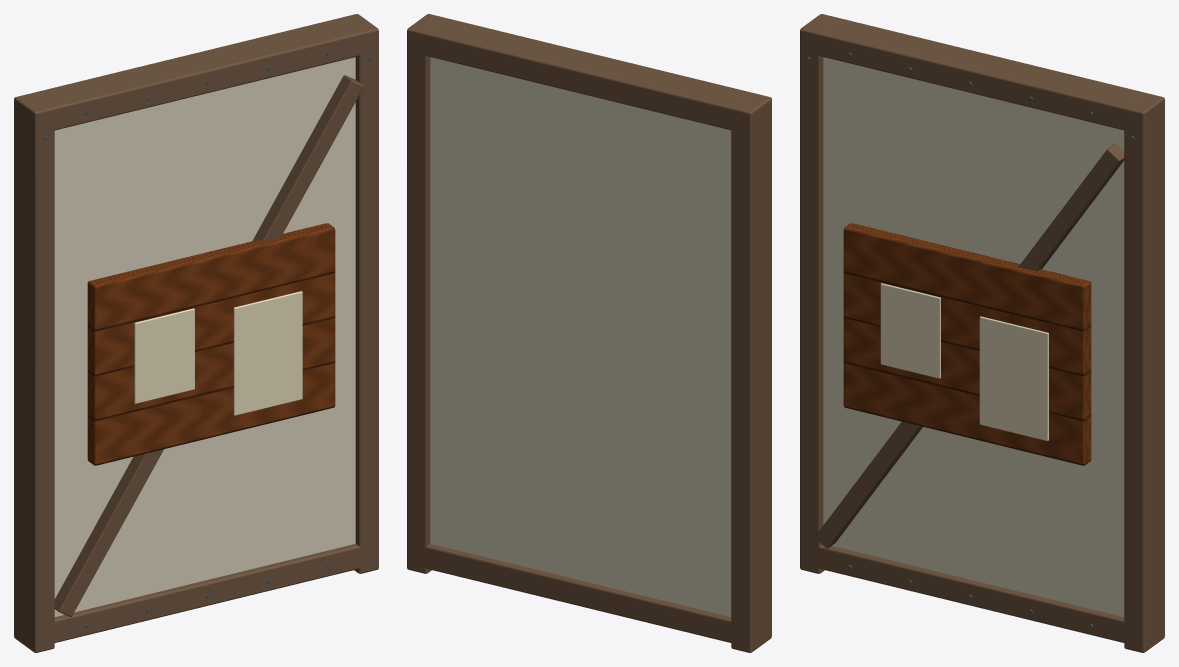
File: adventurers-tavern-and-guild-hall-notice-wall-0d158bfe__24684.glb
3 views of the same model, side by side, from view 1: azimuth 30°, elevation 25°; view 2: azimuth 150°, elevation 25°; view 3: azimuth 330°, elevation 25° (orthographic).
Parts seen in each view (by area): view 1: notice-wall; view 2: notice-wall; view 3: notice-wall.
Part boxes in pixels (x1,y1,x2,y2): notice-wall: [14, 14, 378, 652]; notice-wall: [407, 14, 771, 652]; notice-wall: [800, 14, 1164, 652].
Size of the model in its own units: 2 by 3 by 0.3161.
5 materials, 1 textured.
